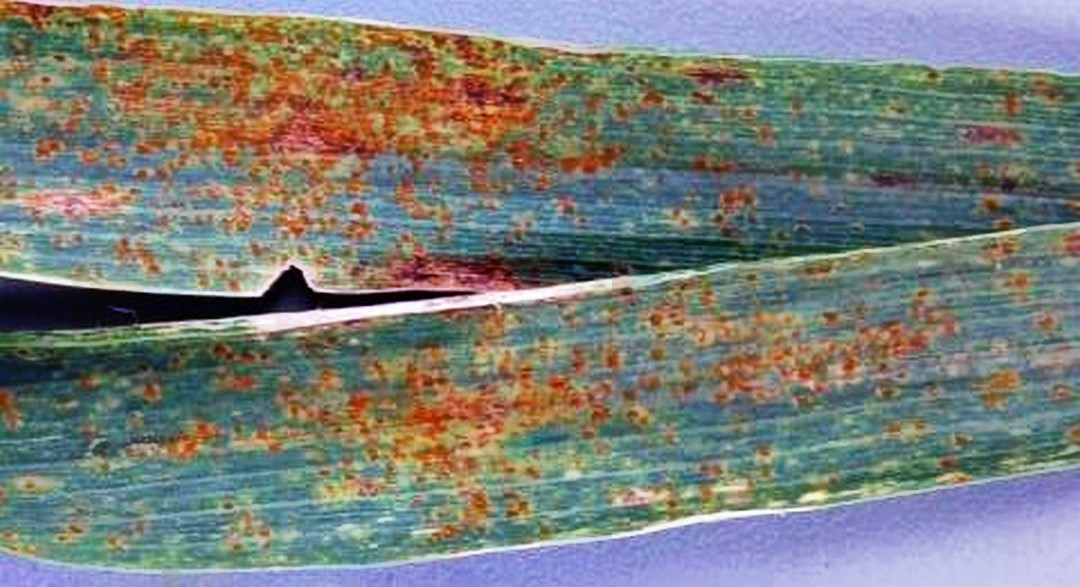Leaf Rust: (4, 11, 780, 525)
